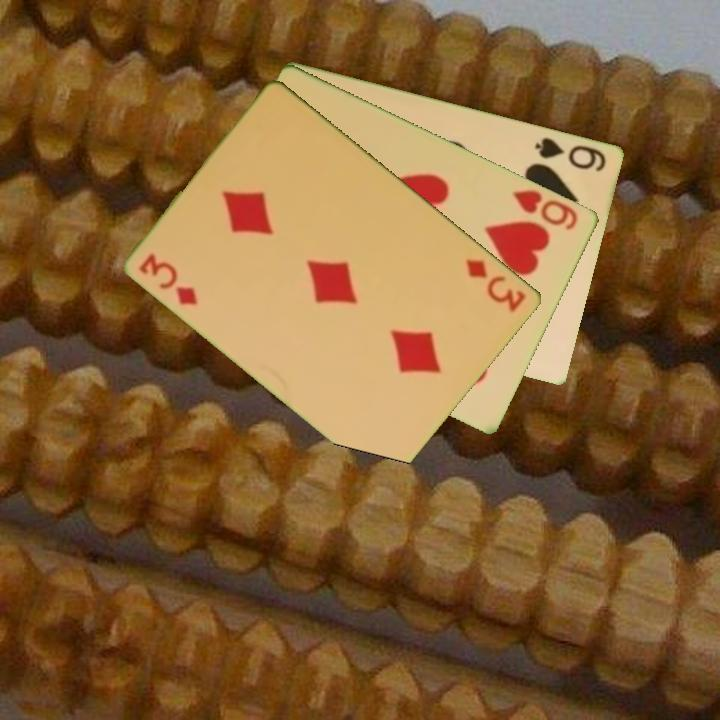3d: (462, 255, 529, 316), (135, 249, 202, 309)
6h: (508, 186, 581, 234)
6s: (531, 133, 610, 174)
